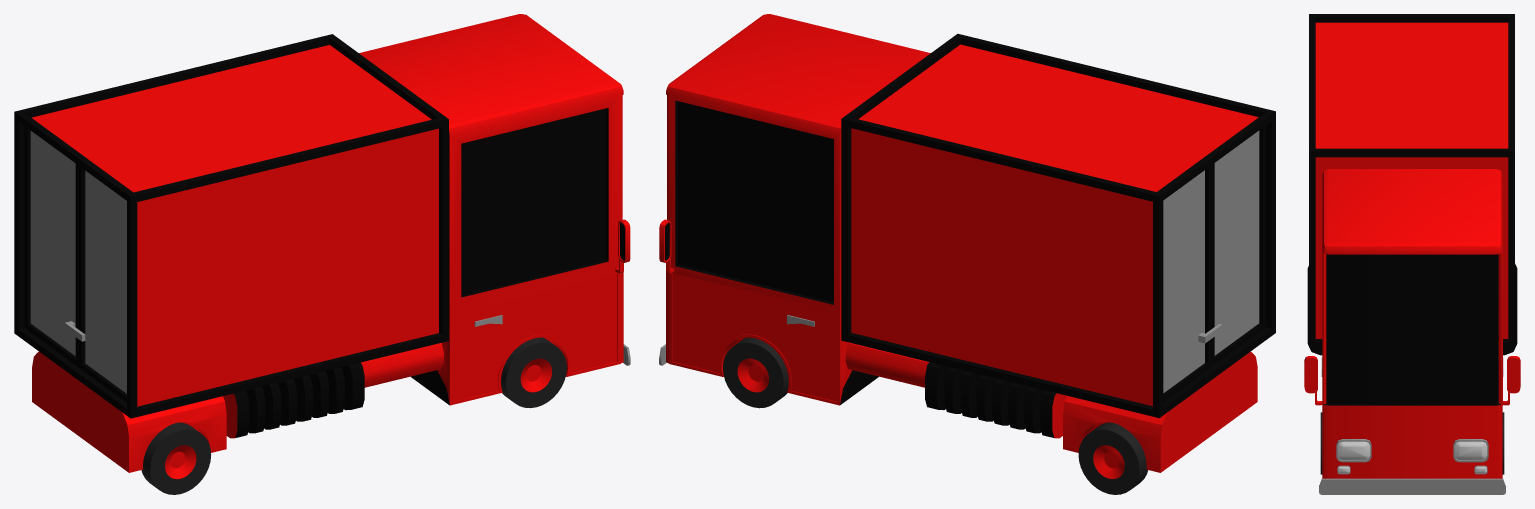
File: truckwithback.fbx
3 renders of one model, left to right at view 1: azimuth 30°, elevation 25°; view 2: azimuth 150°, elevation 25°; view 3: azimuth 270°, elevation 25°, orthographic. The views are drawn at different scales.
Parts seen in each view (by area): view 1: truckwithback; view 2: truckwithback; view 3: truckwithback.
Boxes of the visible parts, x1,y1,x2,y2 form: truckwithback: (14,14,630,494); truckwithback: (659,14,1275,494); truckwithback: (1304,14,1520,494).
Size of the model in its own units: 1238 by 738 by 517.
